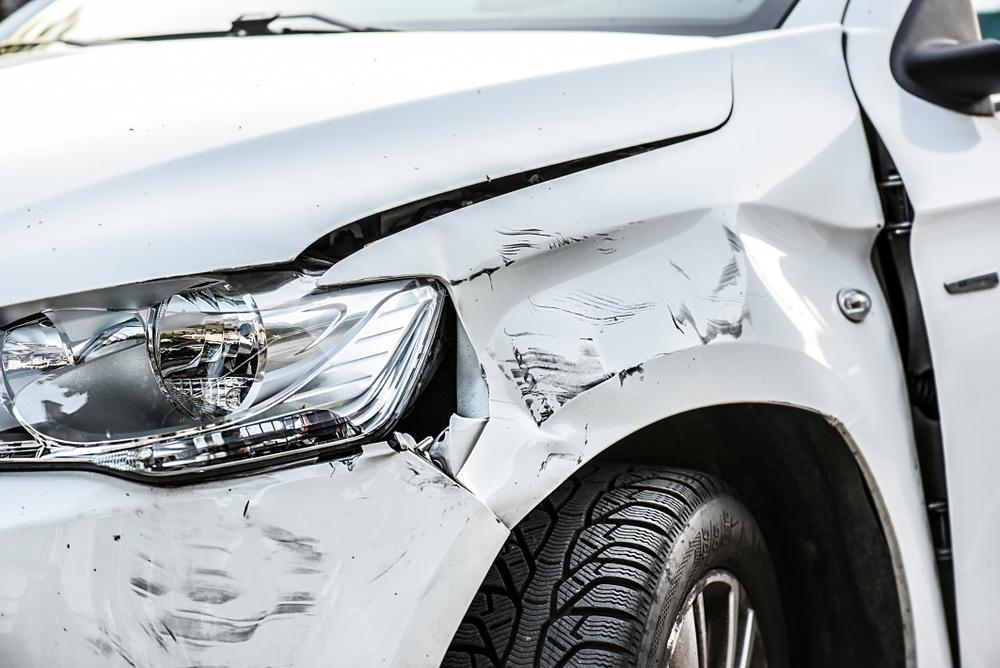dent: (451, 208, 748, 479), (110, 486, 326, 668)
lamp broken: (0, 271, 439, 476)
